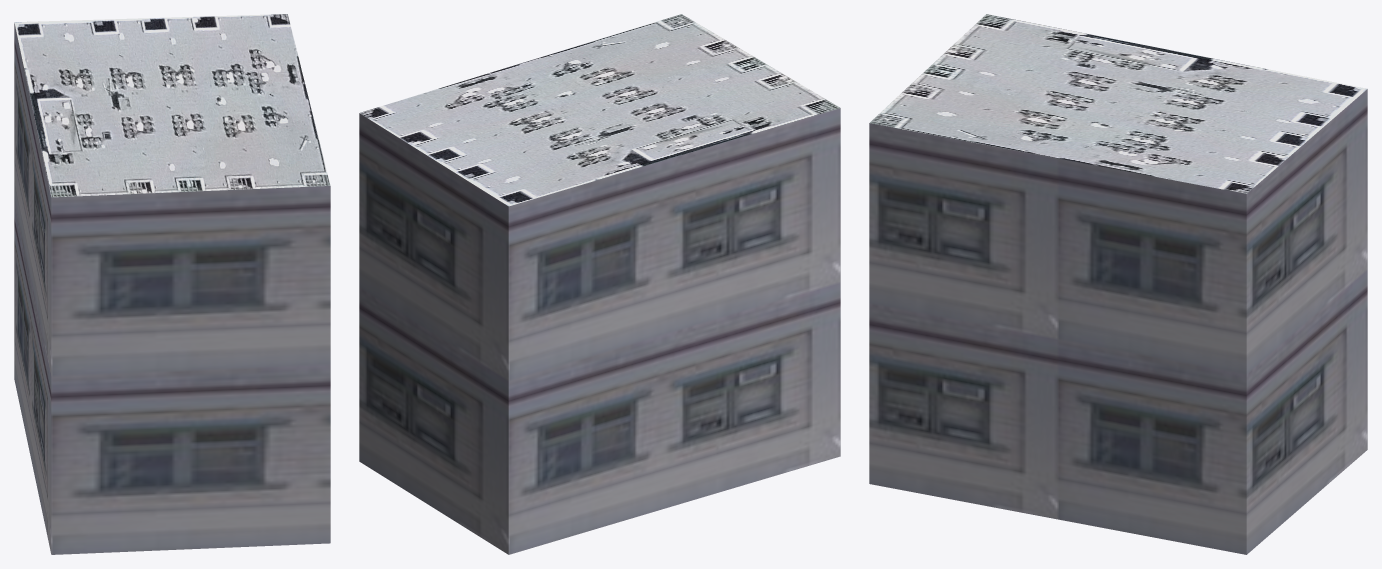
Rendered from ResTex__1050.fbx.
3 renders of one model, left to right at view 1: azimuth 30°, elevation 25°; view 2: azimuth 150°, elevation 25°; view 3: azimuth 270°, elevation 25°, orthographic. The views are drawn at different scales.
Visible parts, largest first — view 1: CityEngineMaterial_1_m, CityEngineMaterial_4_m; view 2: CityEngineMaterial_1_m, CityEngineMaterial_4_m; view 3: CityEngineMaterial_1_m, CityEngineMaterial_4_m.
Boxes of the visible parts, x1,y1,x2,y2 form: CityEngineMaterial_1_m: (14, 23, 330, 554); CityEngineMaterial_4_m: (14, 14, 330, 197); CityEngineMaterial_1_m: (359, 108, 840, 554); CityEngineMaterial_4_m: (359, 14, 840, 206); CityEngineMaterial_1_m: (869, 89, 1367, 554); CityEngineMaterial_4_m: (870, 14, 1367, 193).
Bounding box in the file's own units: 6.42 × 6 × 7.51.
Materials: 2 (2 with a texture image).
